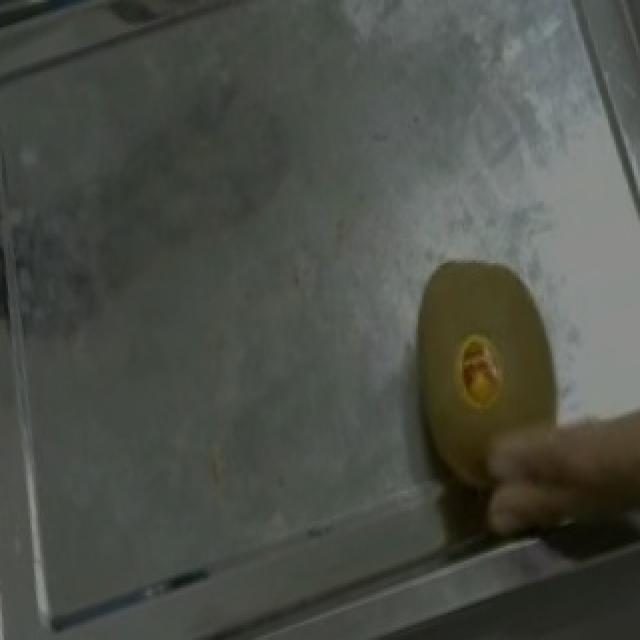Fruit: (362, 233, 614, 546)
